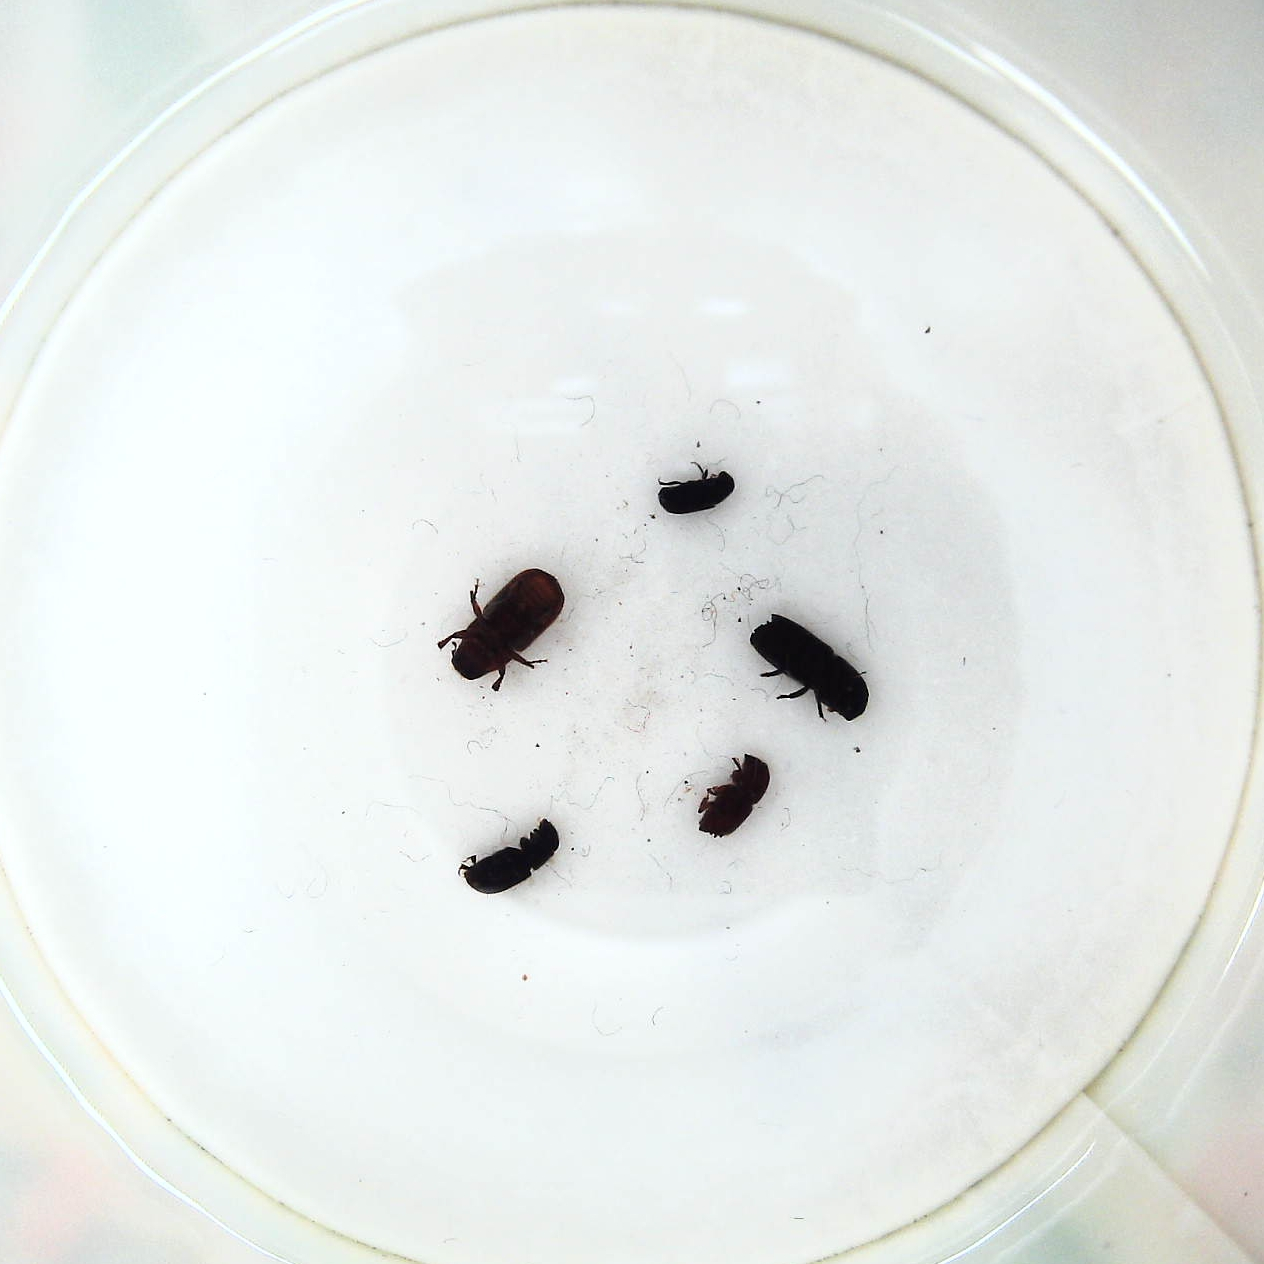Boerner: (743, 609, 872, 728)
Leconte: (433, 567, 569, 691)
armandi: (455, 818, 565, 896)
coleoptera: (651, 465, 741, 516)
linnaeus: (688, 752, 776, 845)
